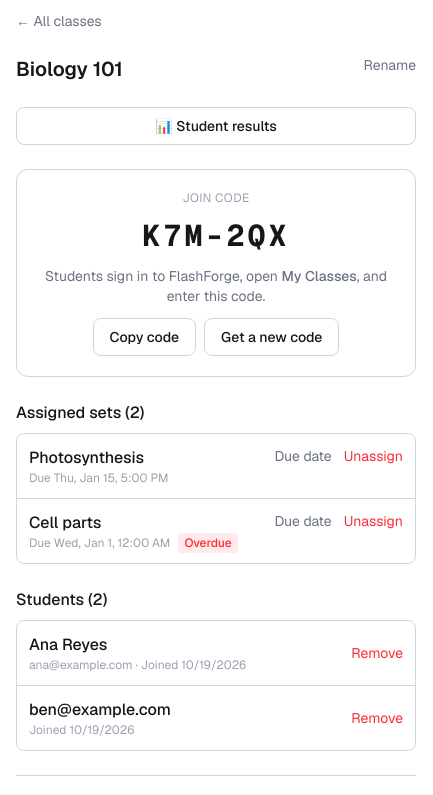
Scenario: class page › renames the class
Click the button "Rename": (390, 65) [363, 55, 416, 75]
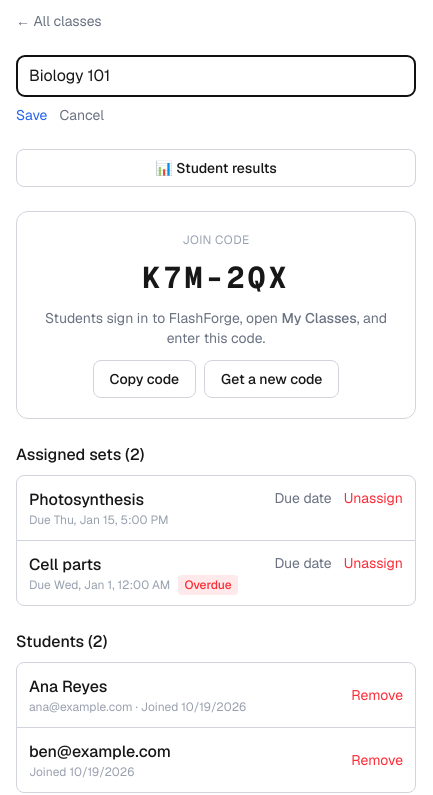
Replace the text in the field named "Class name" with "Biology 102": (216, 76) [16, 55, 416, 97]
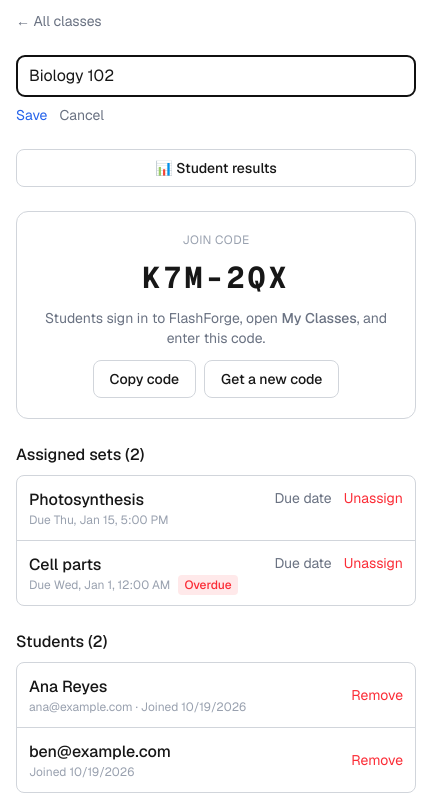
Click the button "Save": (32, 115) [16, 105, 48, 125]
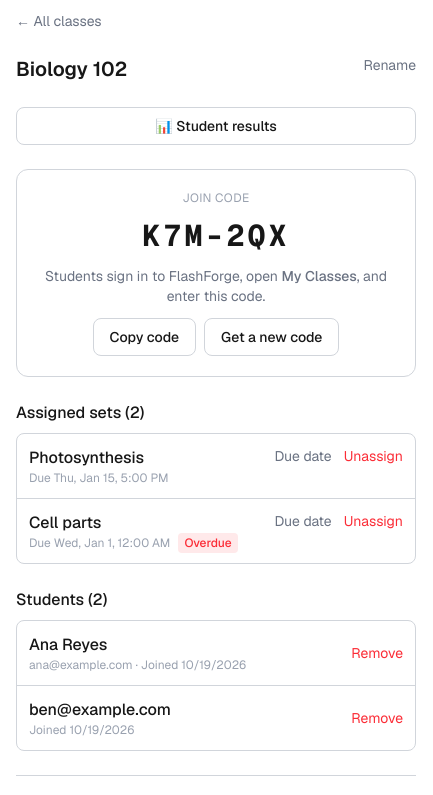
Result: the heading "Biology 102" is shown at [16, 55, 127, 83]
